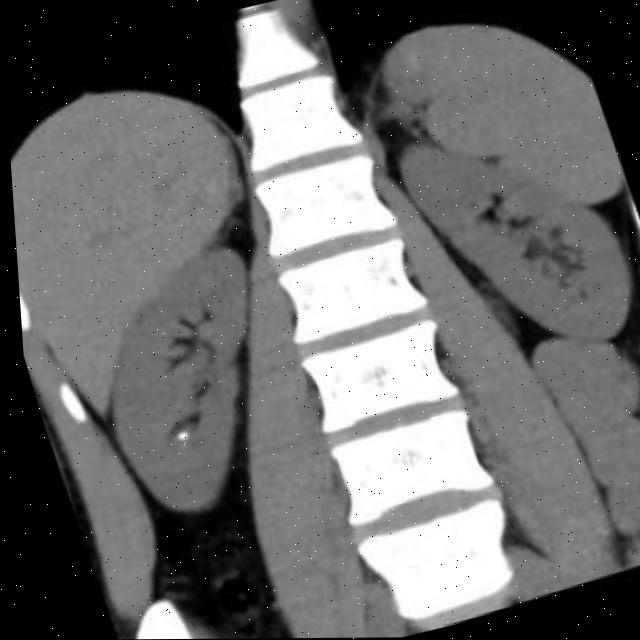Tas_Var: (164, 418, 192, 452)
